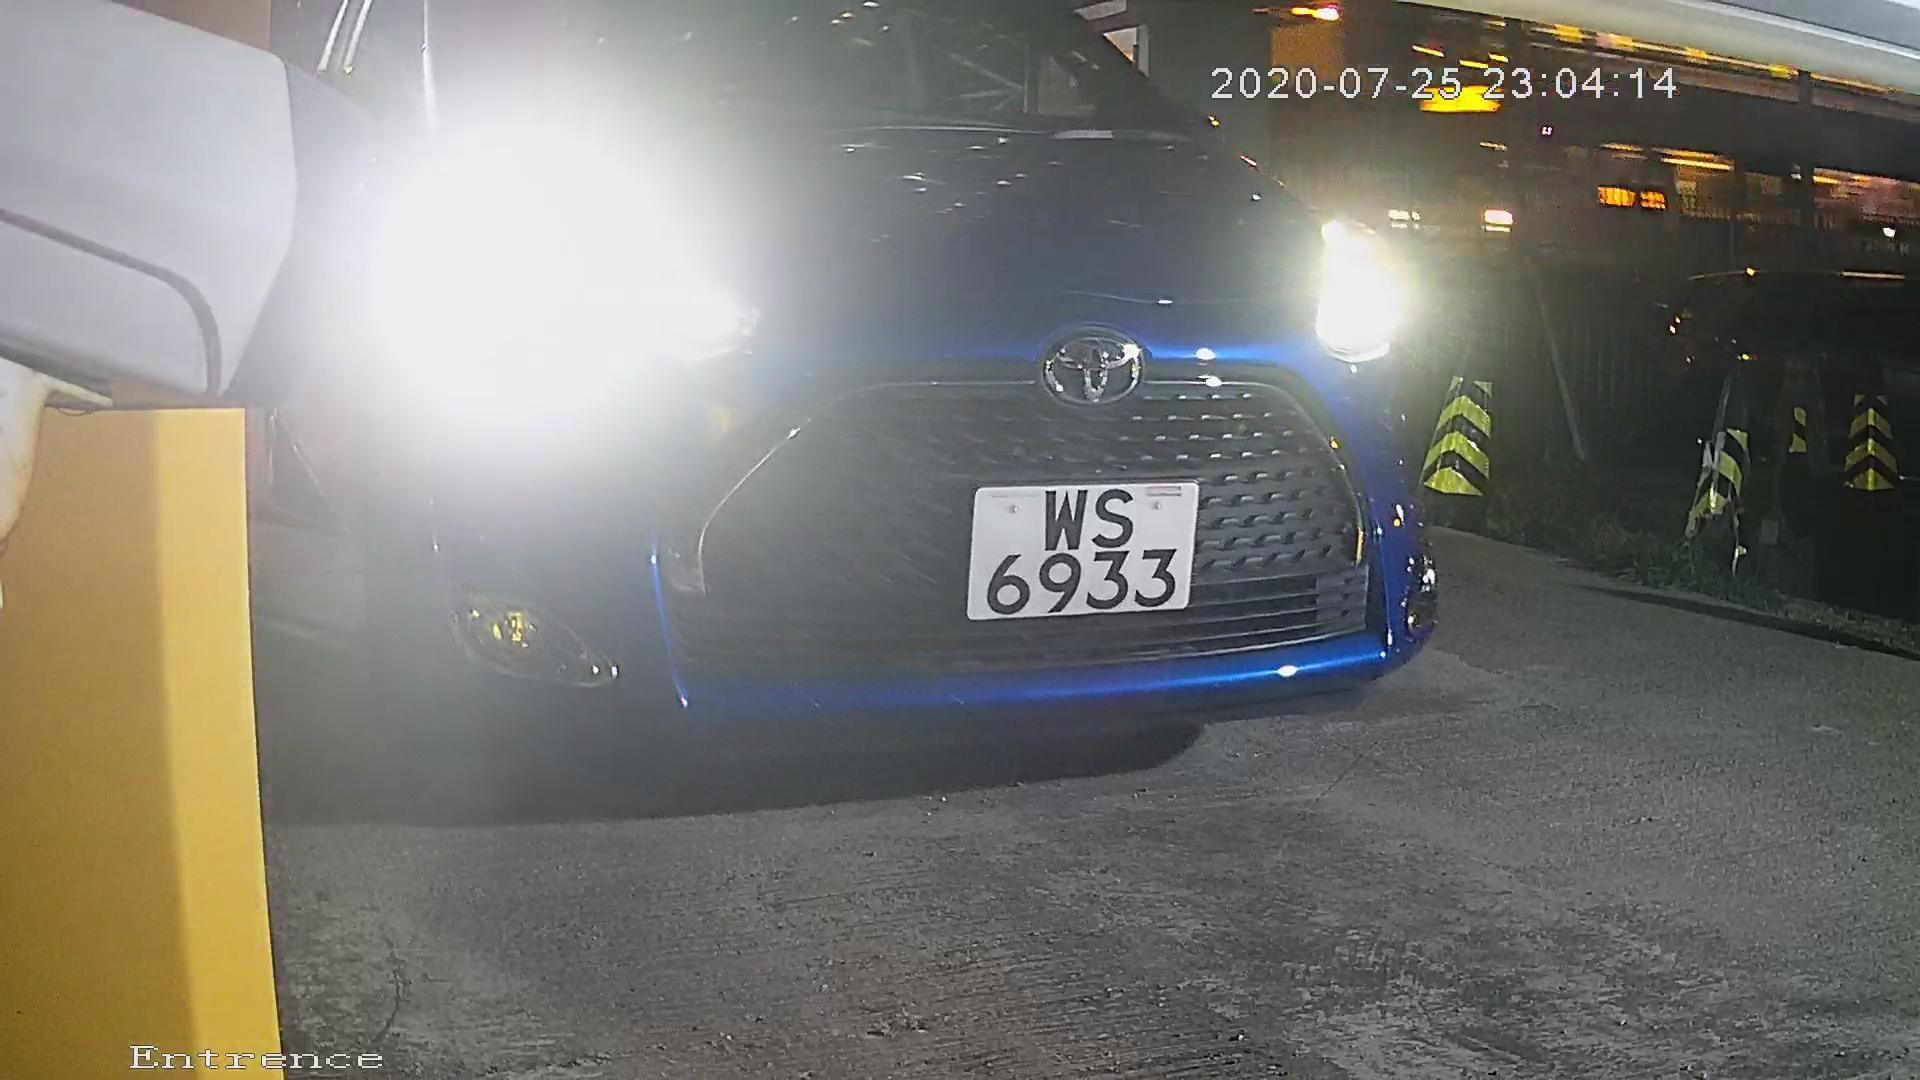privatecar: (291, 1, 1552, 825)
